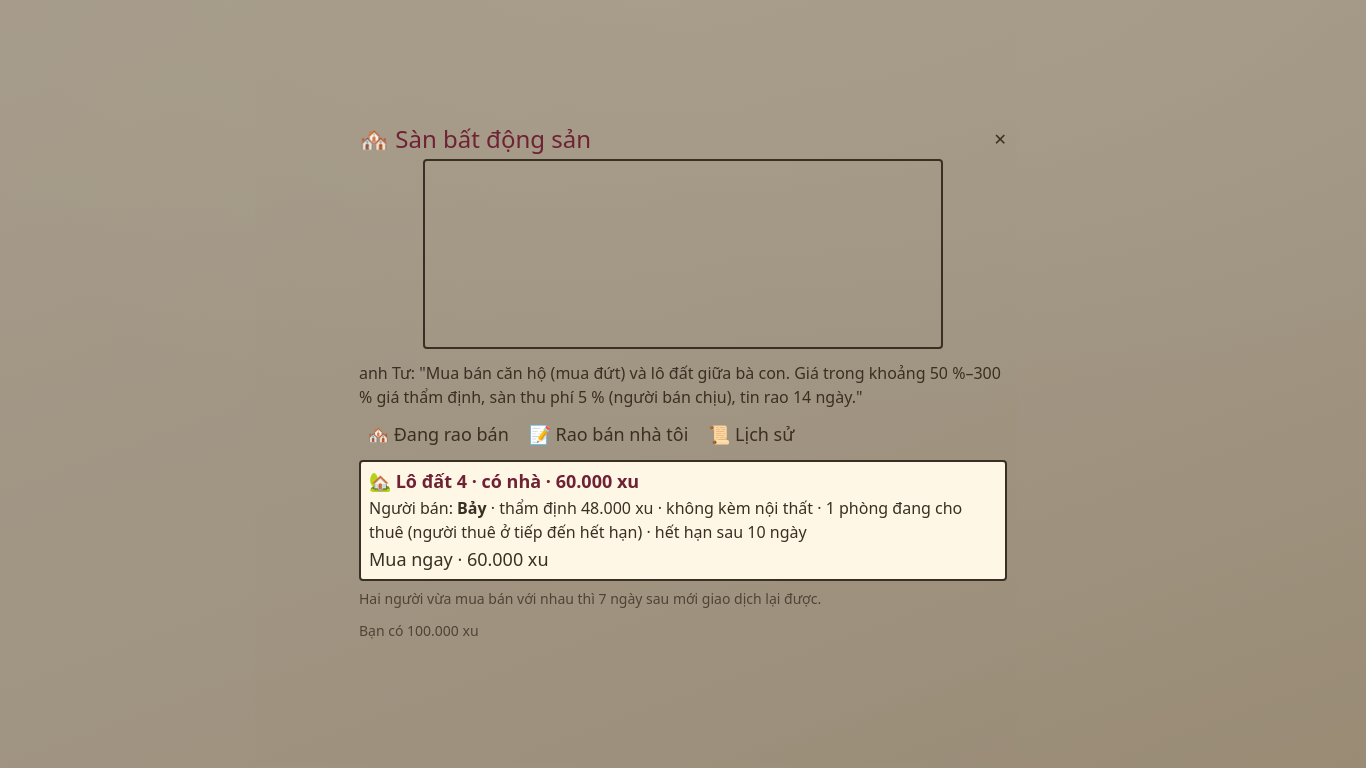
Test case: EstateModal › shows the history, filtered per property, and the refusal text
Click the button "Mua ngay · 60.000 xu". click: (459, 559)
box: [369, 548, 548, 571]
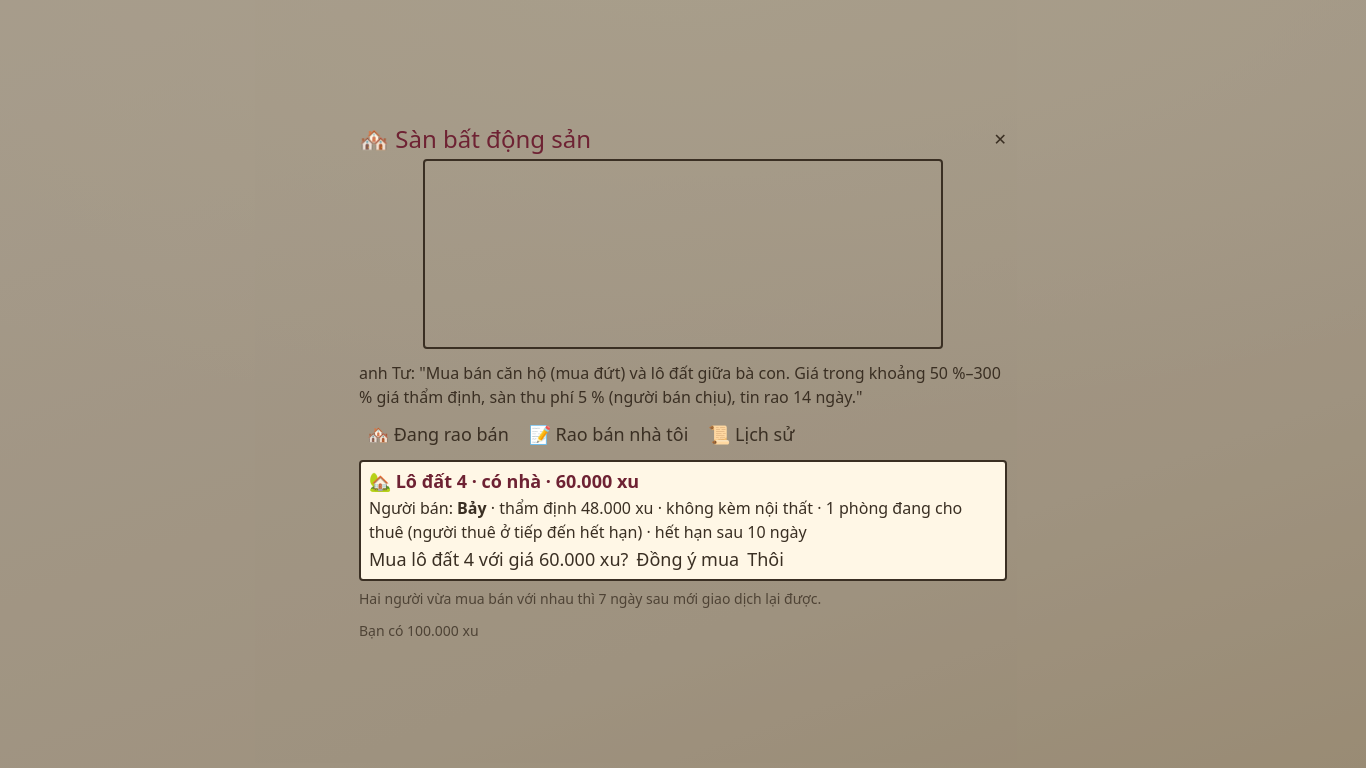
Click the button "Đồng ý mua". click: (688, 559)
box: [636, 548, 739, 571]
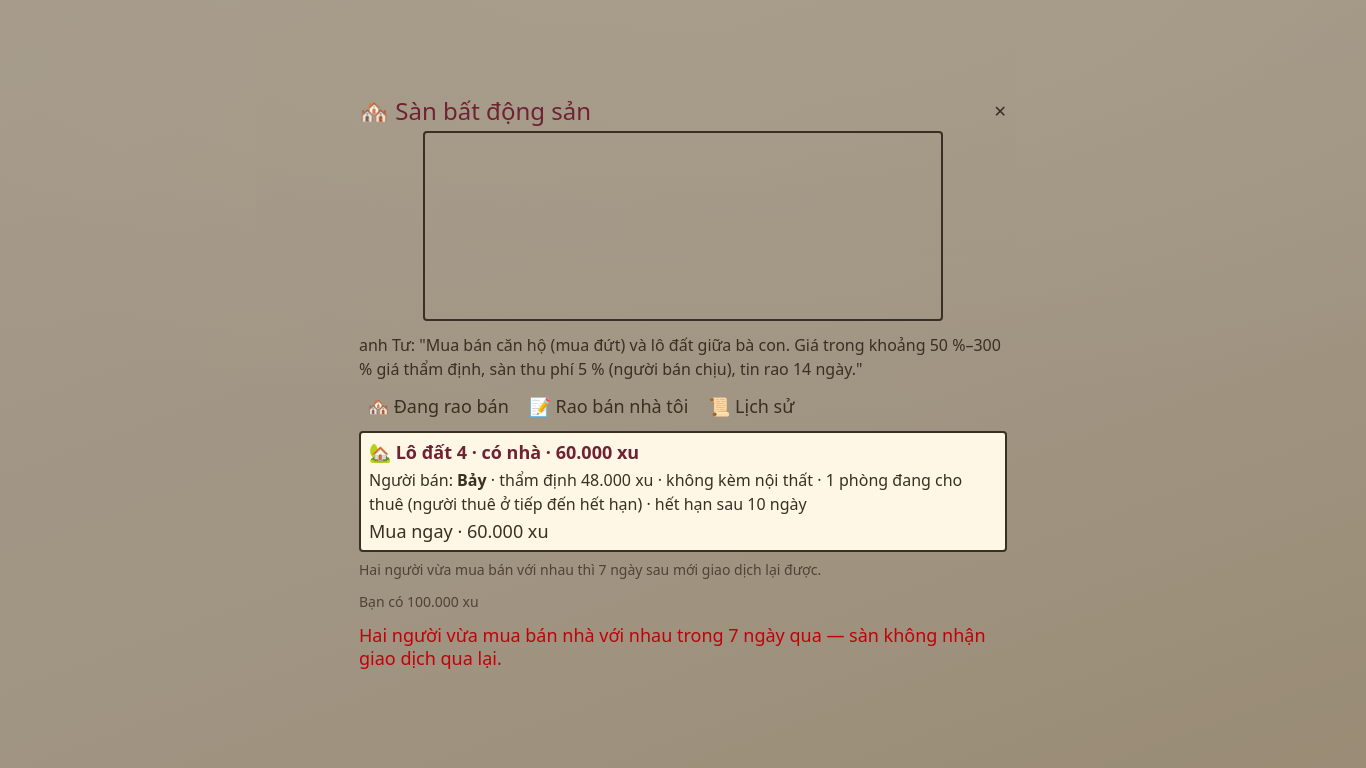
Now the message shows "7 ngày", box [359, 623, 986, 669]
Click the tab "📜 Lịch sử". click: (751, 406)
box: [700, 393, 802, 419]
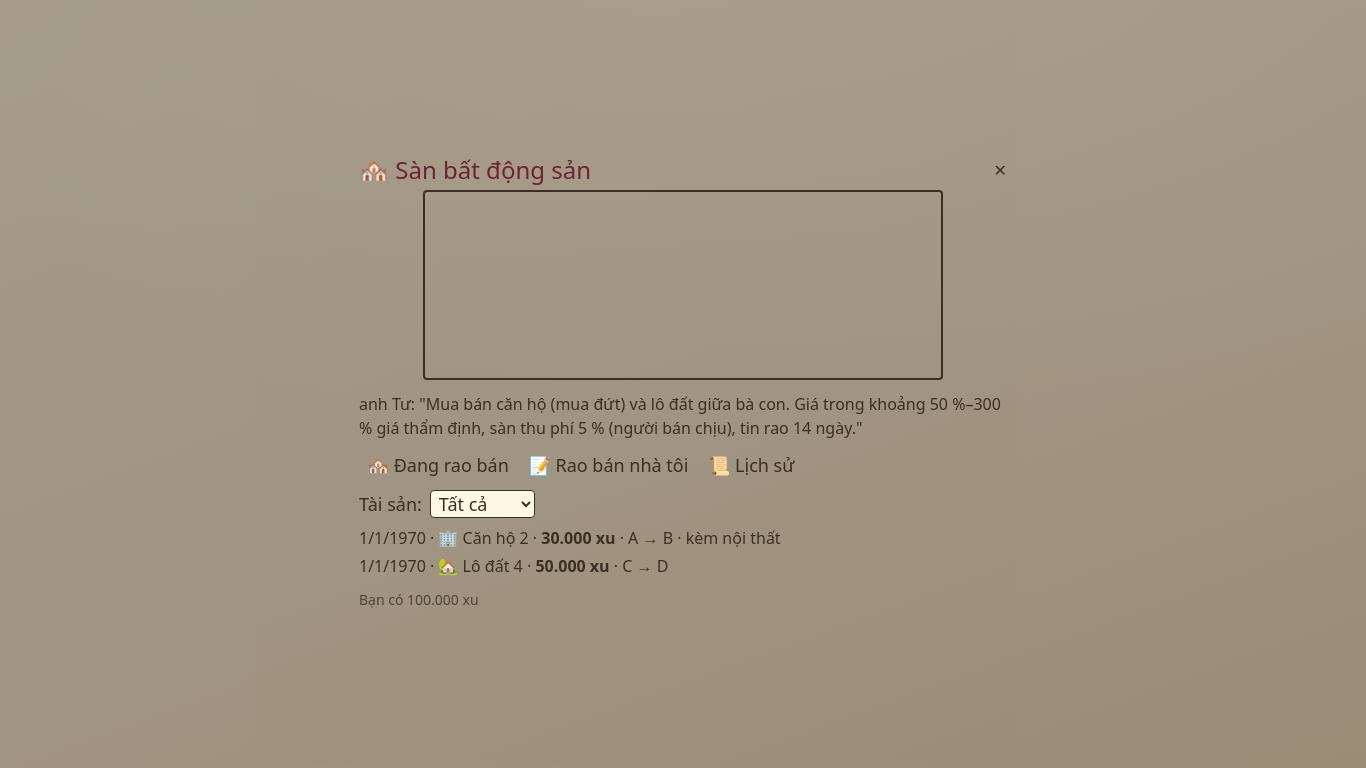
Now the number of list items is 2, box [359, 527, 781, 549]; [359, 555, 668, 577]
Select "Lô đất 4" in the dropdown. click: (482, 504)
box: [430, 490, 535, 518]
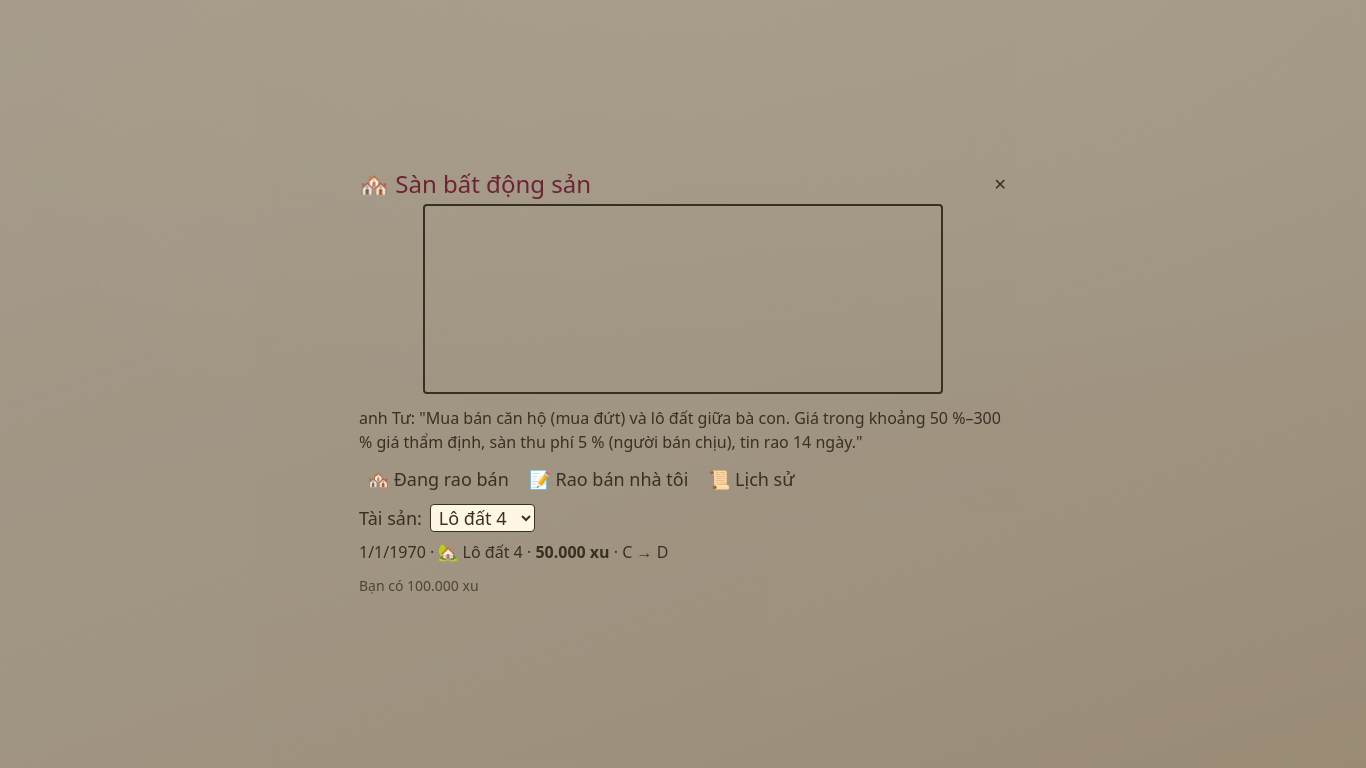
Now the number of list items is 1, box [359, 541, 668, 563]
